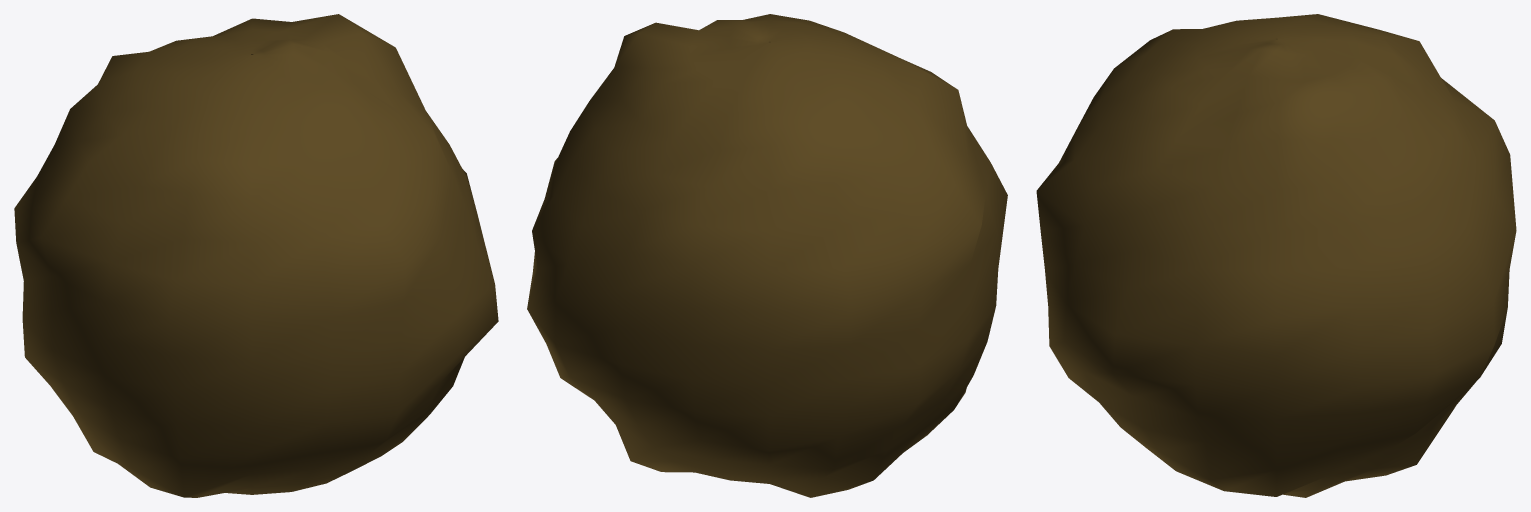
File: HeartCore.fbx
The picture shows the model from 3 angles, left to right: view 1: azimuth 30°, elevation 25°; view 2: azimuth 150°, elevation 25°; view 3: azimuth 270°, elevation 25°; orthographic projection.
Visible parts, largest first — view 1: polySurface77; view 2: polySurface77; view 3: polySurface77.
Boxes of the visible parts, x1,y1,x2,y2 form: polySurface77: [14, 14, 498, 497]; polySurface77: [527, 14, 1007, 497]; polySurface77: [1036, 14, 1516, 497].
Size of the model in its own units: 4.83 by 4.62 by 4.64.
